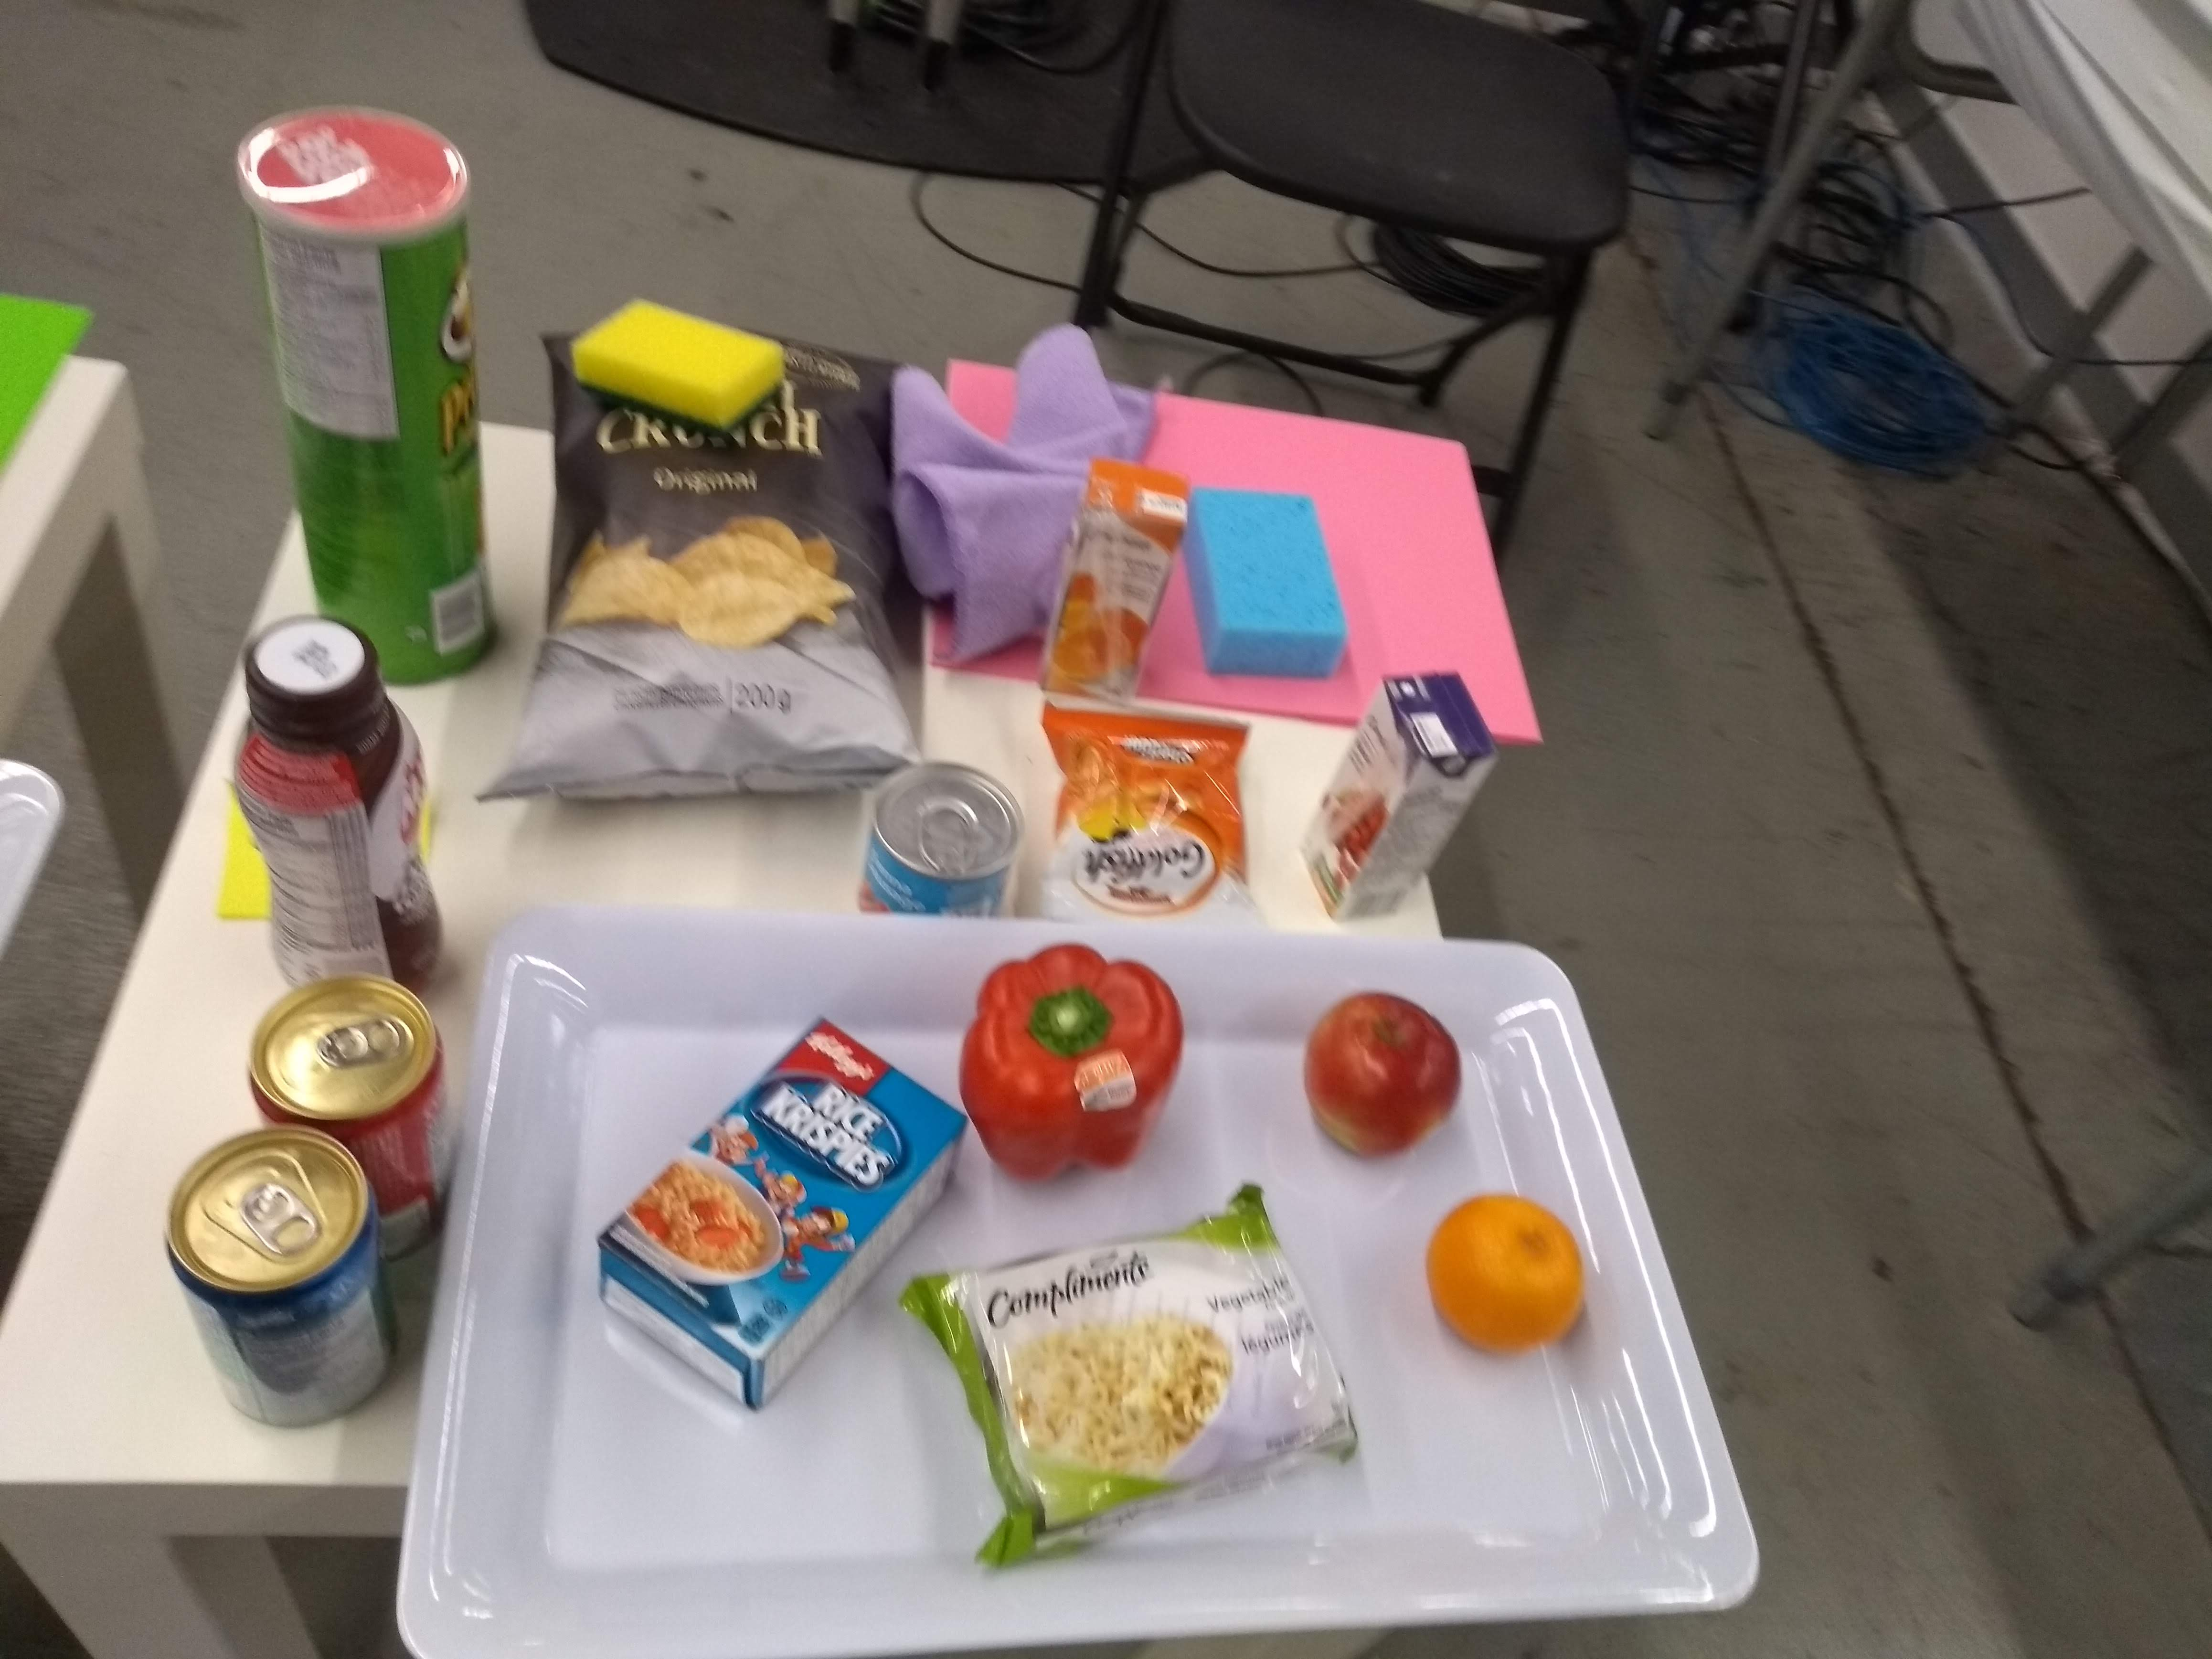apple: (1291, 981, 1465, 1168)
cereal: (585, 1002, 972, 1406)
chocolate_drink: (216, 624, 465, 1011)
crackers: (1029, 701, 1268, 913)
grape_juice: (1292, 659, 1503, 929)
noodles: (907, 1178, 1353, 1565)
orange: (1423, 1187, 1592, 1359)
orange_juice: (1028, 453, 1197, 709)
paprika: (958, 936, 1204, 1194)
potato_chips: (479, 310, 932, 828)
pringles: (226, 98, 510, 701)
sausages: (852, 748, 1022, 929)
scrubby: (566, 284, 799, 443)
sponge_opl: (1176, 483, 1362, 690)
sprite: (157, 1126, 404, 1446)
